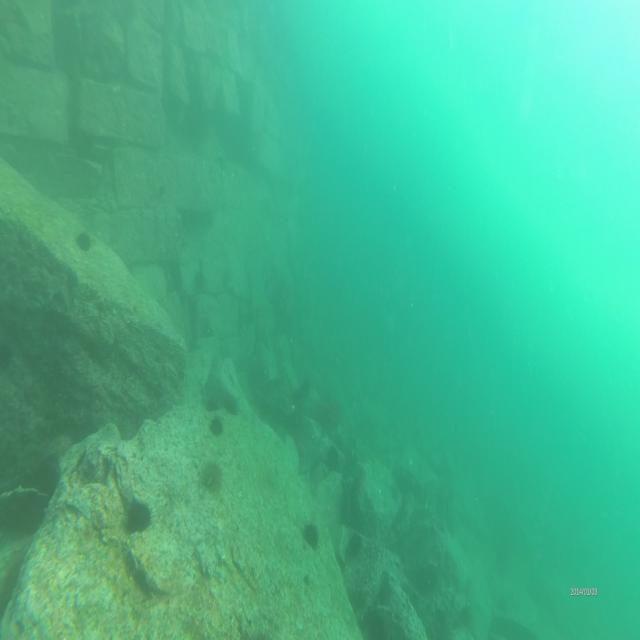echinus: (124, 497, 156, 534), (201, 459, 225, 497), (412, 566, 436, 598), (72, 226, 96, 255), (375, 566, 393, 602), (300, 518, 318, 554), (456, 599, 474, 631), (345, 529, 365, 557), (324, 441, 340, 473), (207, 414, 226, 440), (192, 266, 209, 294), (197, 320, 216, 343), (298, 376, 312, 400)
